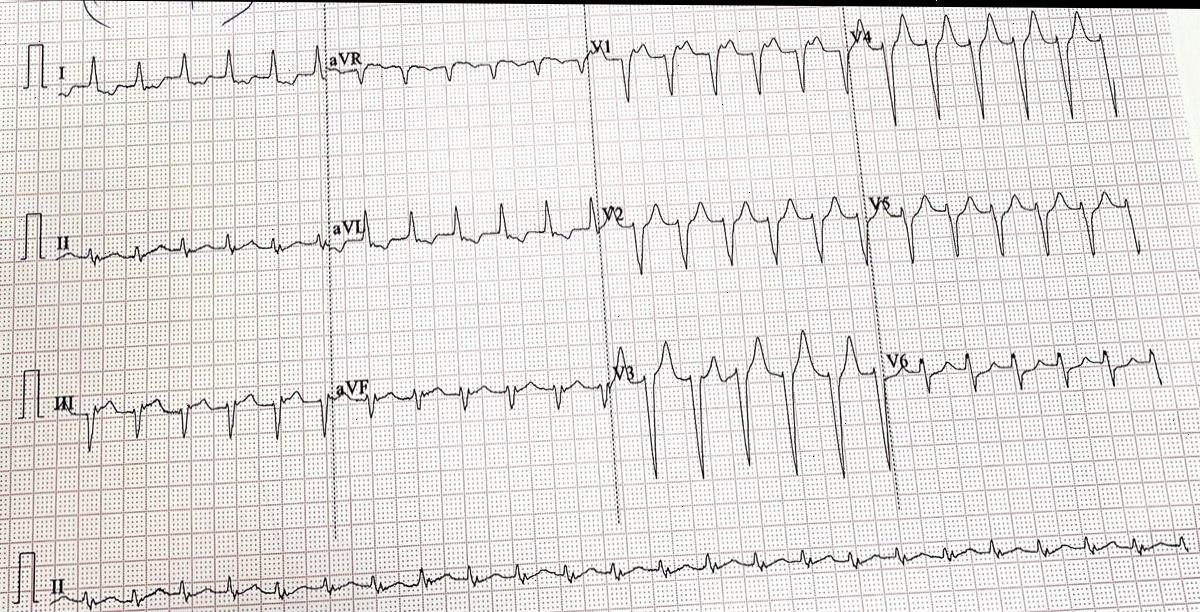Lead_I: (46, 35, 327, 114)
Lead_II: (43, 203, 332, 286)
Lead_III: (44, 372, 334, 456)
Lead_II_ext: (39, 523, 1200, 612)
Lead_V1: (585, 9, 852, 114)
Lead_V2: (596, 184, 872, 281)
Lead_V3: (610, 313, 895, 487)
Lead_V4: (846, 5, 1128, 135)
Lead_V5: (862, 164, 1162, 282)
Lead_V6: (876, 314, 1170, 410)
Lead_aVF: (335, 369, 614, 431)
Lead_aVL: (329, 194, 603, 256)
Lead_aVR: (322, 30, 587, 101)
